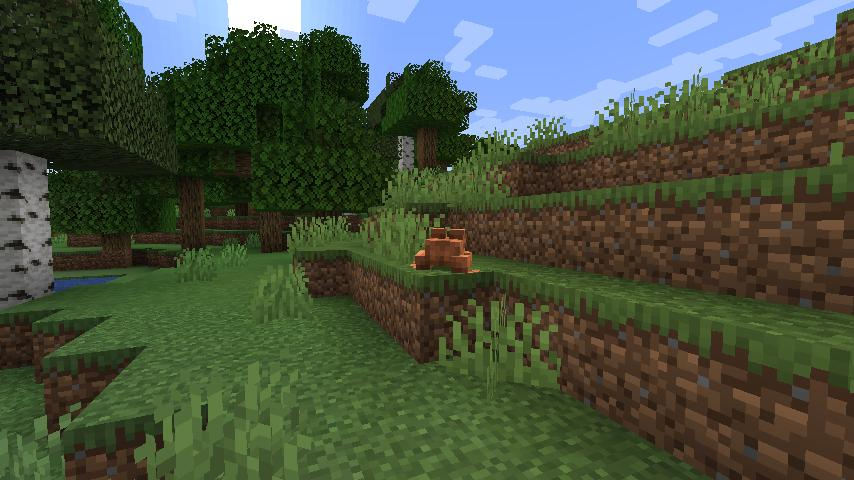frog: (408, 222, 482, 279)
